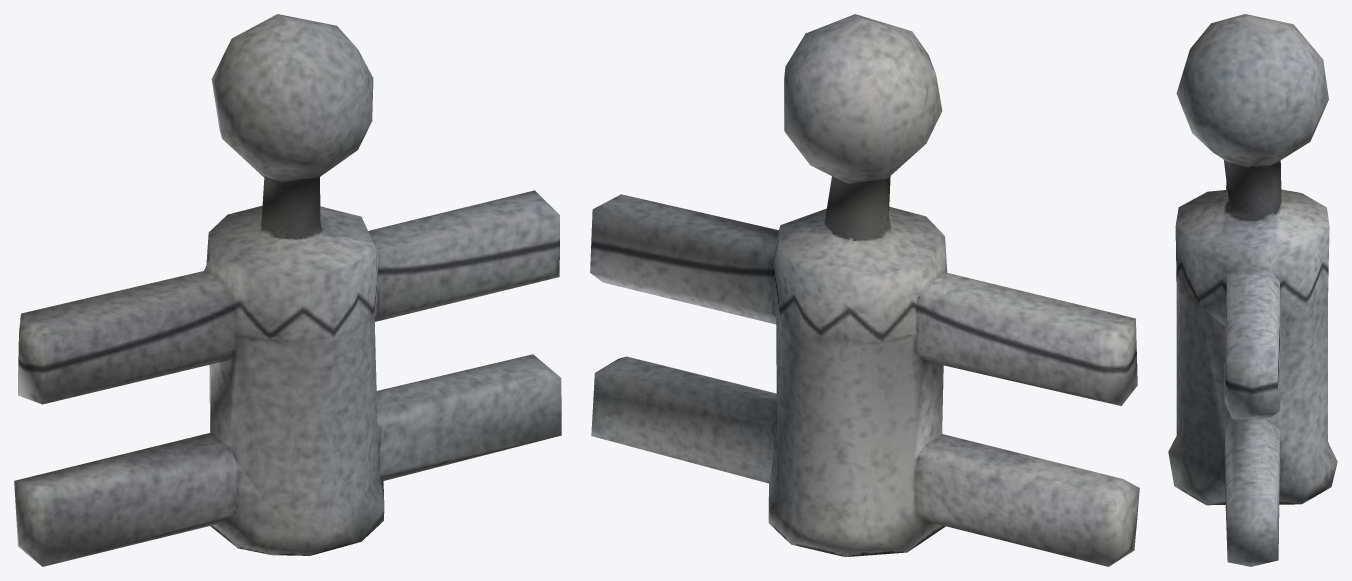
File: balustrade_far.glb
The picture shows the model from 3 angles, left to right: view 1: azimuth 30°, elevation 25°; view 2: azimuth 150°, elevation 25°; view 3: azimuth 270°, elevation 25°; orthographic projection. The views are drawn at different scales.
Parts seen in each view (by area): view 1: balustrade_lod1; view 2: balustrade_lod1; view 3: balustrade_lod1.
Part boxes in pixels (left/top/right/bottom): balustrade_lod1: left=14, top=14, right=561, bottom=566; balustrade_lod1: left=590, top=14, right=1139, bottom=566; balustrade_lod1: left=1168, top=14, right=1337, bottom=566.
Size of the model in its own units: 0.9952 by 0.8997 by 0.302.
1 material, 1 textured.
